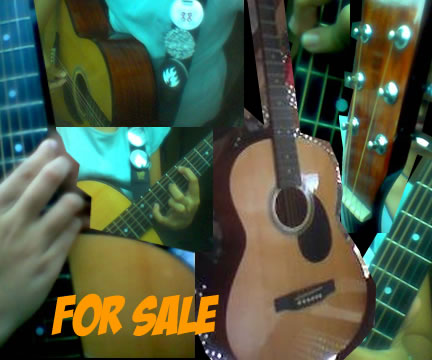guitar: (223, 1, 370, 358)
